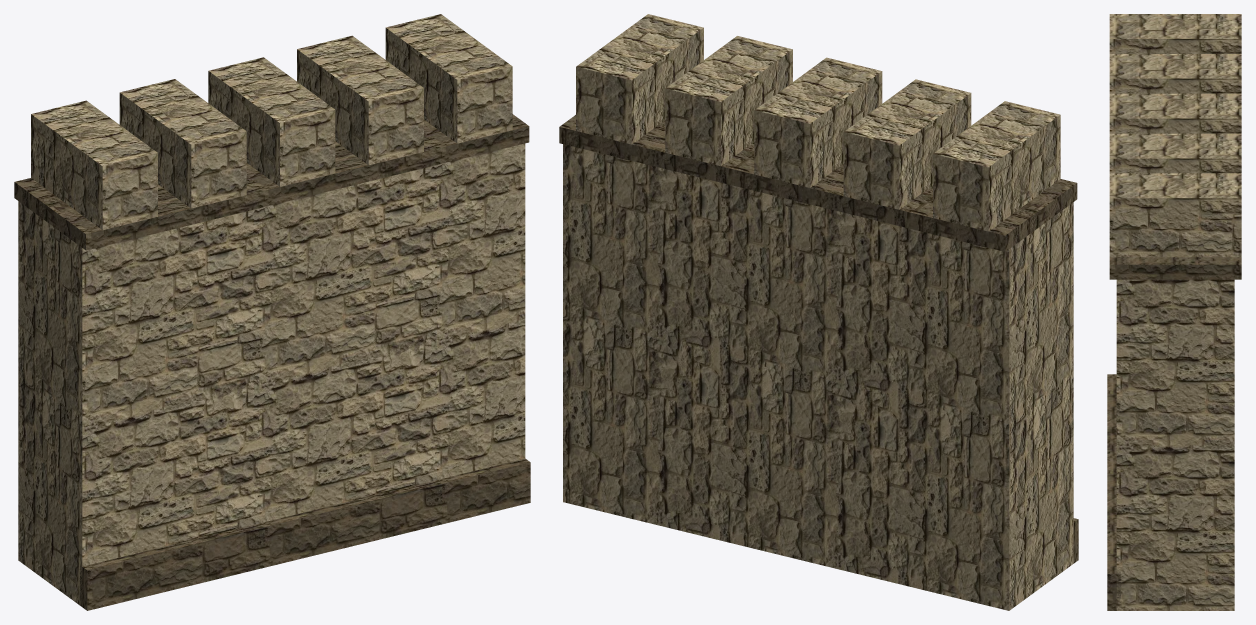
File: city_wall_segment_01.glb
The picture shows the model from 3 angles, left to right: view 1: azimuth 30°, elevation 25°; view 2: azimuth 150°, elevation 25°; view 3: azimuth 270°, elevation 25°; orthographic projection. The views are drawn at different scales.
Visible parts, largest first — view 1: city_wall_segment_01; view 2: city_wall_segment_01; view 3: city_wall_segment_01.
Part boxes in pixels (x1,y1,x2,y2): city_wall_segment_01: (14,14,530,610); city_wall_segment_01: (559,14,1078,610); city_wall_segment_01: (1107,14,1241,610).
Bounding box in the file's own units: 4 × 3.79 × 1.14.
Materials: 2 (2 with a texture image).
